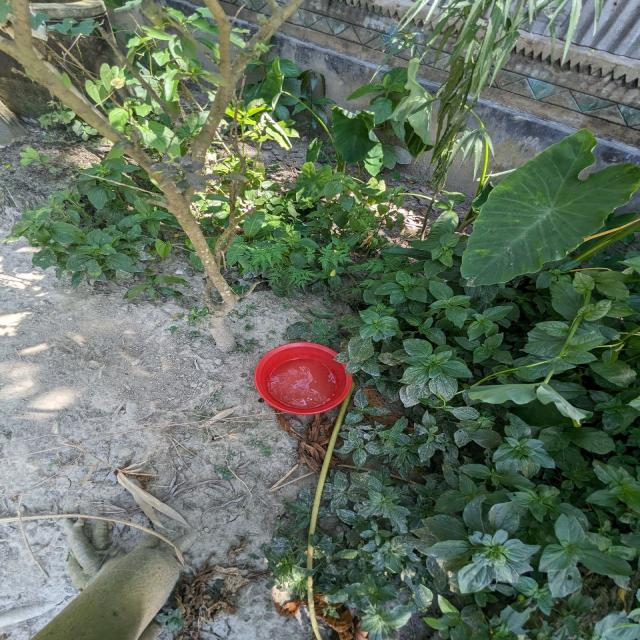Breeding Place: (265, 170, 640, 640), (0, 36, 471, 325), (236, 334, 357, 432)
